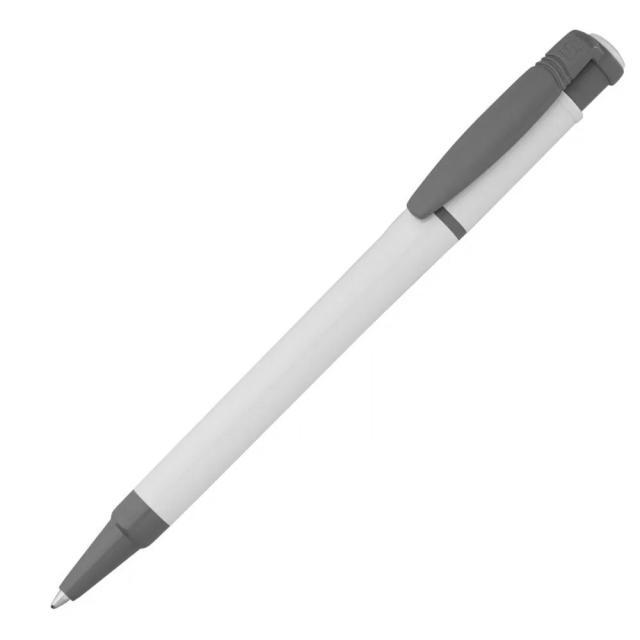pencil: (44, 18, 629, 625)
